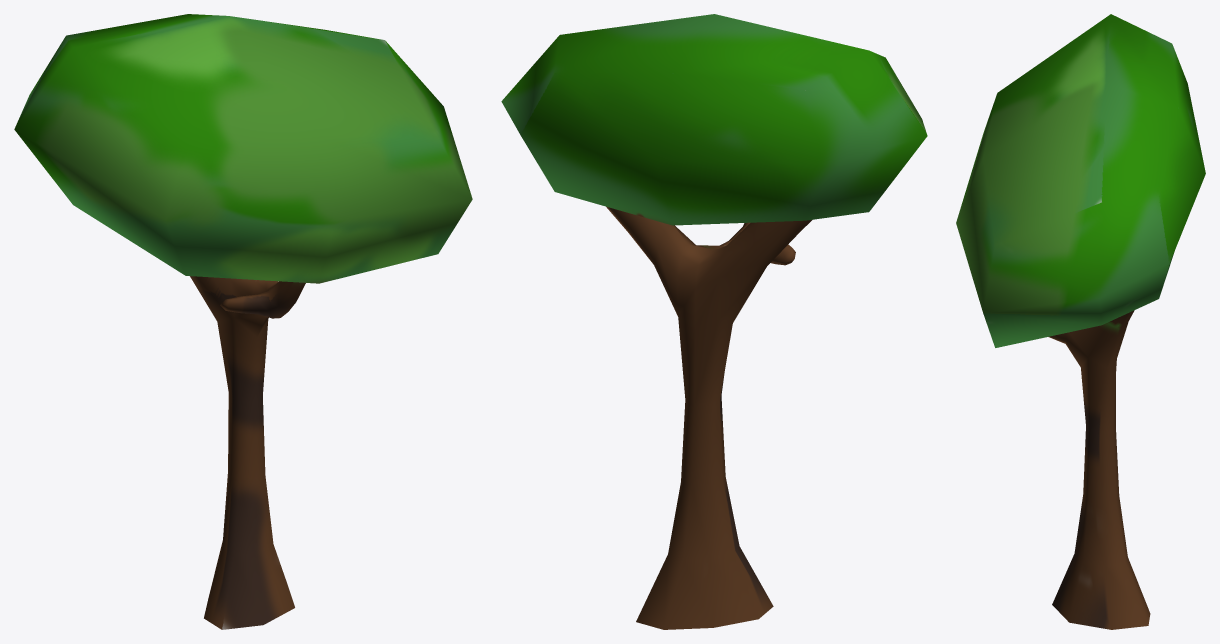
File: tree_painting_new_scale.obj
3 views of the same model, side by side, from view 1: azimuth 30°, elevation 25°; view 2: azimuth 150°, elevation 25°; view 3: azimuth 270°, elevation 25° (orthographic). The views are drawn at different scales.
Parts seen in each view (by area): view 1: Tree_Cube.001; view 2: Tree_Cube.001; view 3: Tree_Cube.001.
Part boxes in pixels (x1,y1,x2,y2): Tree_Cube.001: (14,14,472,629); Tree_Cube.001: (501,14,927,629); Tree_Cube.001: (956,14,1205,629).
Bounding box in the file's own units: 1.8 × 2.41 × 1.04.
Materials: 1 (1 with a texture image).
